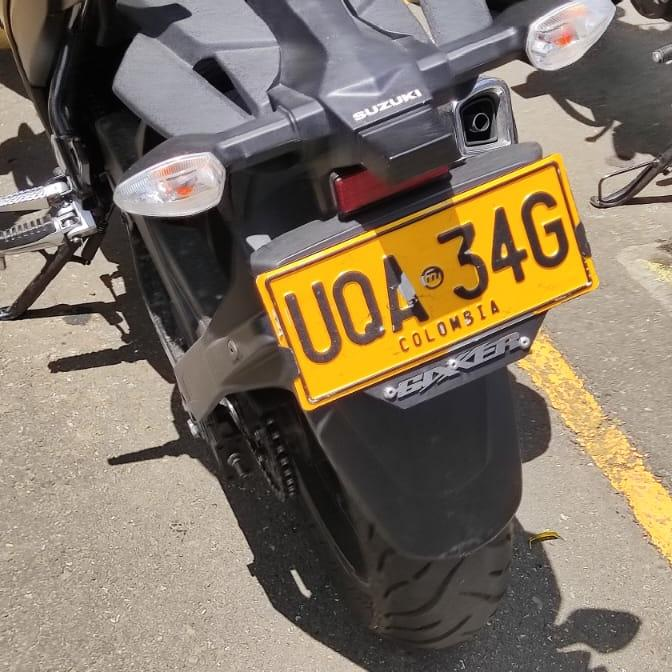plates: (258, 161, 597, 409)
